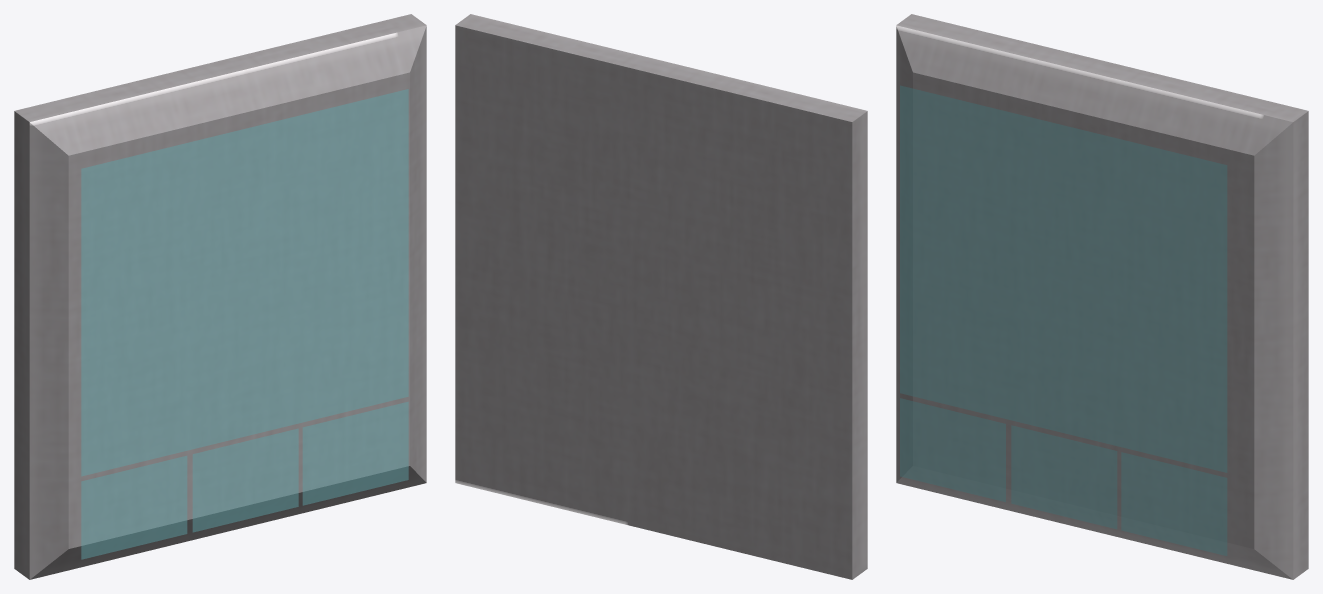
Rendered from Control_Panel_Wall.fbx.
3 renders of one model, left to right at view 1: azimuth 30°, elevation 25°; view 2: azimuth 150°, elevation 25°; view 3: azimuth 330°, elevation 25°, orthographic.
Parts seen in each view (by area): view 1: Control_Panel; view 2: Control_Panel; view 3: Control_Panel.
Boxes of the visible parts, x1,y1,x2,y2 form: Control_Panel: (14, 14, 426, 579); Control_Panel: (455, 14, 867, 579); Control_Panel: (896, 14, 1308, 579).
Bounding box in the file's own units: 22.29 × 24.55 × 3.83.
Materials: 2 (1 with a texture image).
